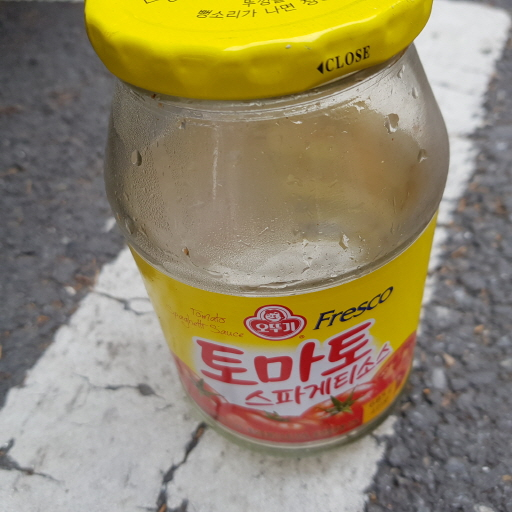Glass_5: (82, 1, 448, 456)
